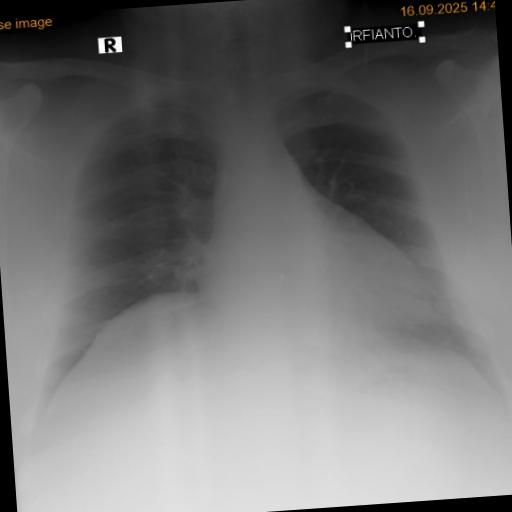kardiomegali: (7, 49, 507, 439)
